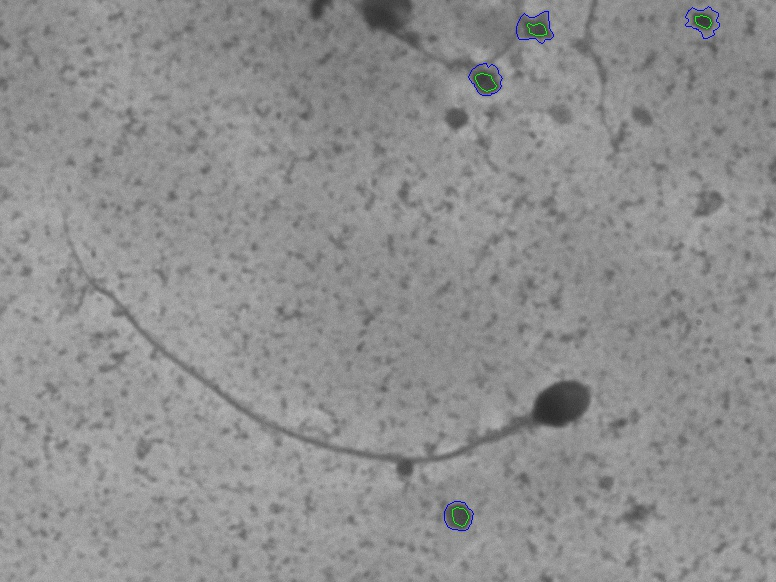Normal: (39, 195, 630, 483)
